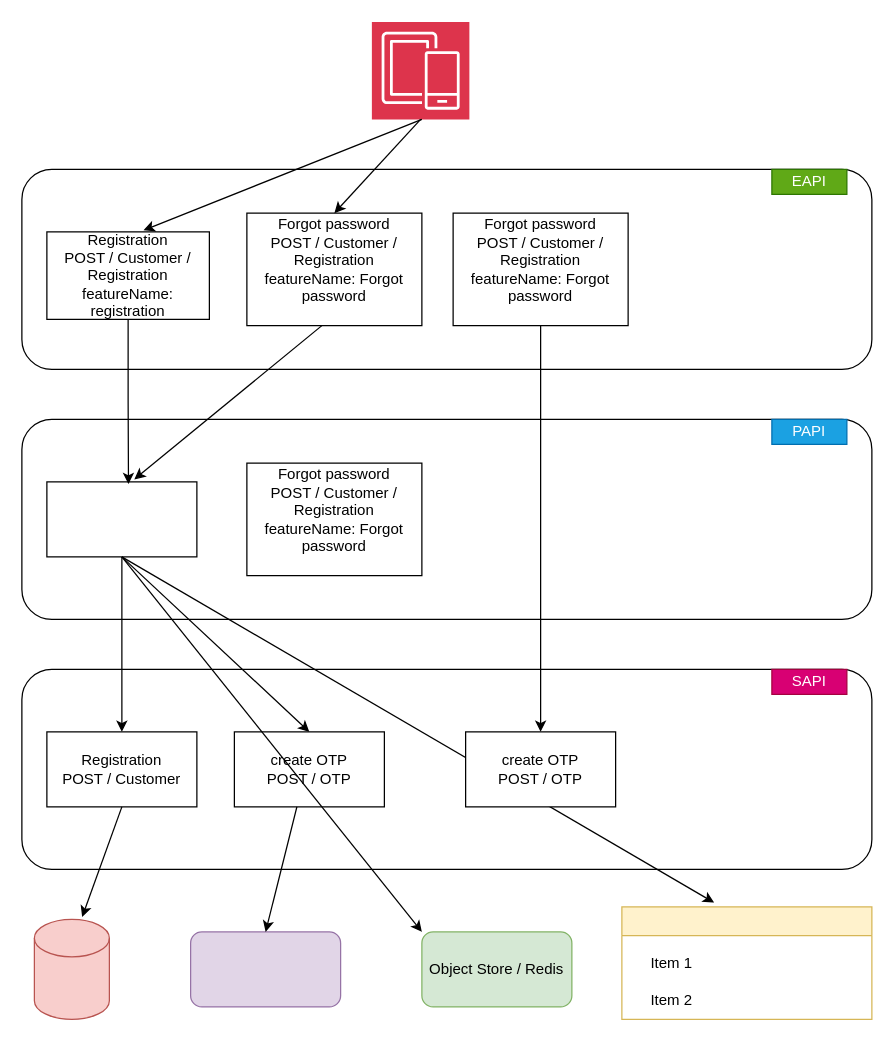
Some shapes in this 894 by 1041 pixel diagram are drawn without their labels. The shapes that lost their labels are listed below. From the top down, each one's box as (x1, y1, x2, y2) in pixels, then its label:
(46, 481, 197, 557): Registration POST / Customer / Registration
(33, 918, 109, 1019): DB
(189, 931, 341, 1007): 3RD Party API (SFMC)
(621, 906, 872, 1019): AZURE Active Directory
